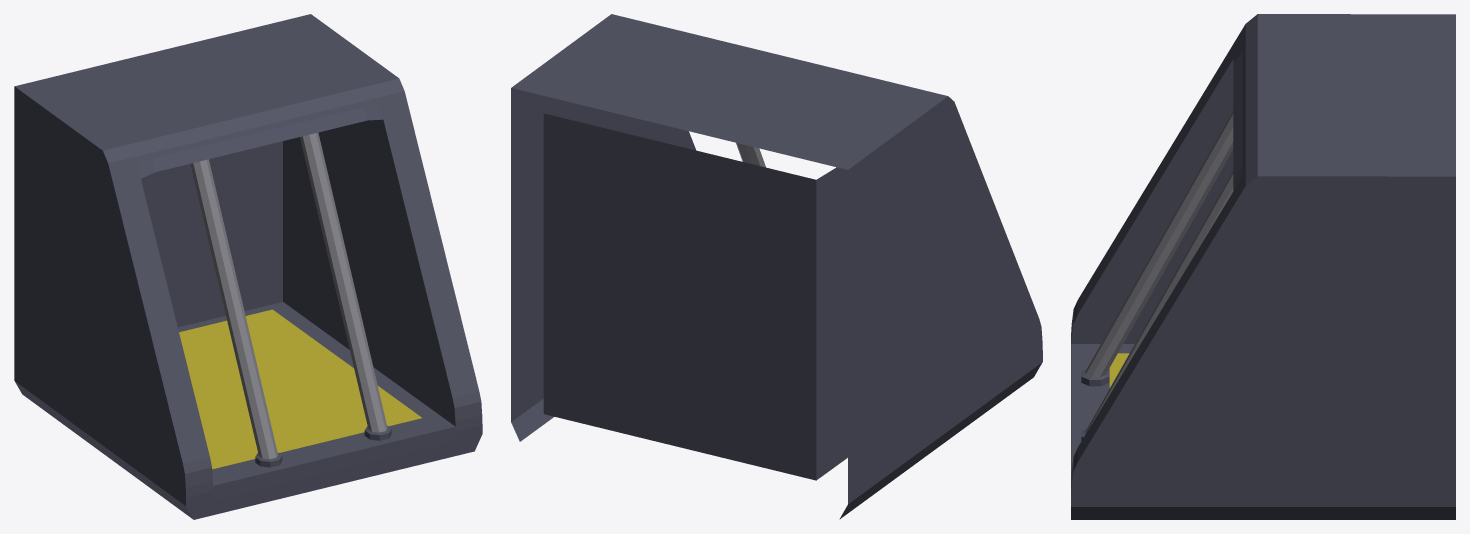
Rendered from AllSidesCage.fbx.
3 views of the same model, side by side, from view 1: azimuth 30°, elevation 25°; view 2: azimuth 150°, elevation 25°; view 3: azimuth 270°, elevation 25° (orthographic). The views are drawn at different scales.
Parts seen in each view (by area): view 1: AllFacesCage; view 2: AllFacesCage; view 3: AllFacesCage.
Boxes of the visible parts, box(x1,y1,x2,y2) form: AllFacesCage: box(14, 14, 482, 519); AllFacesCage: box(511, 14, 1042, 519); AllFacesCage: box(1071, 14, 1455, 519).
Size of the model in its own units: 100 by 100 by 100.
